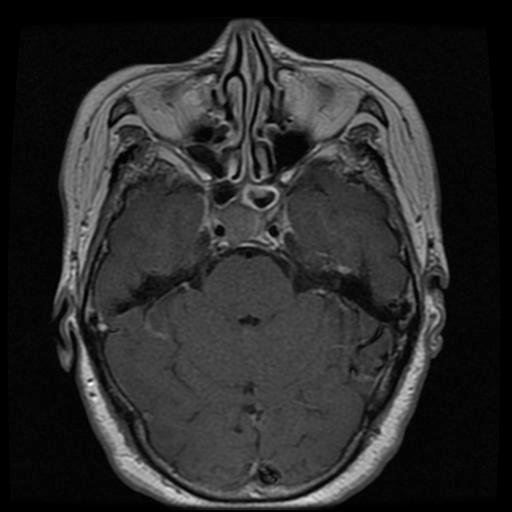Tumour-Pituitary: (202, 190, 286, 248)
